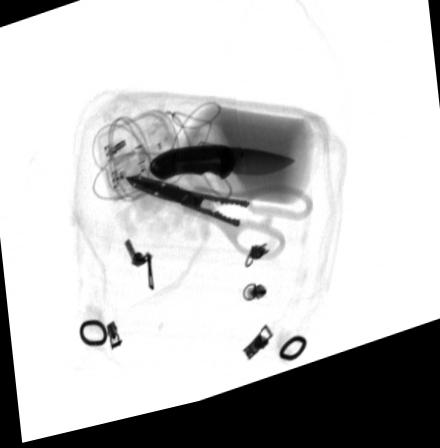Knife: (150, 153, 297, 190)
Scissors: (126, 180, 313, 274)
